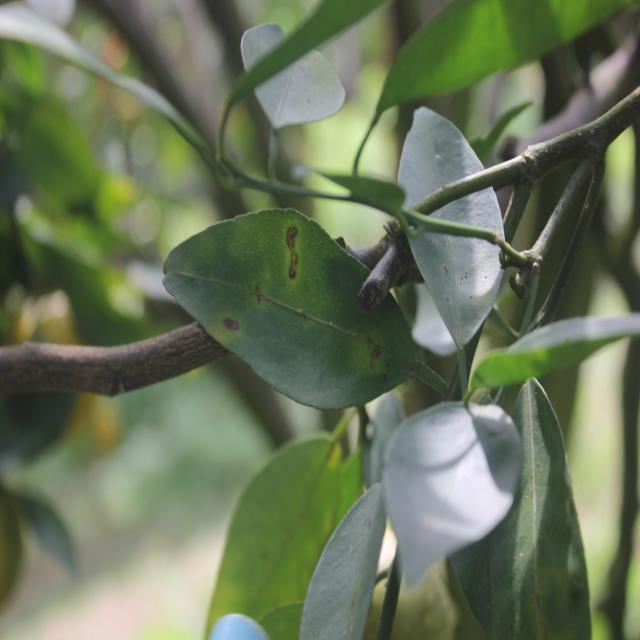canker: (210, 219, 402, 386)
